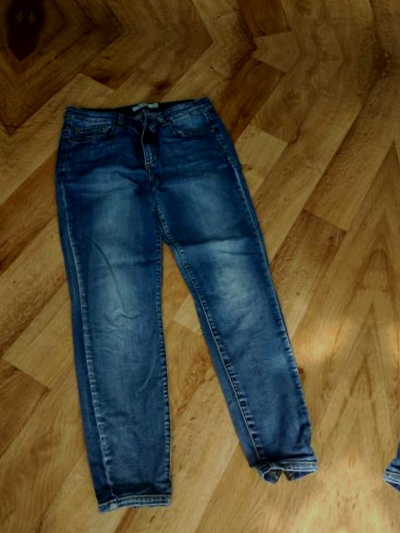Pants: (0, 56, 367, 520), (377, 105, 400, 533), (61, 0, 400, 28)
